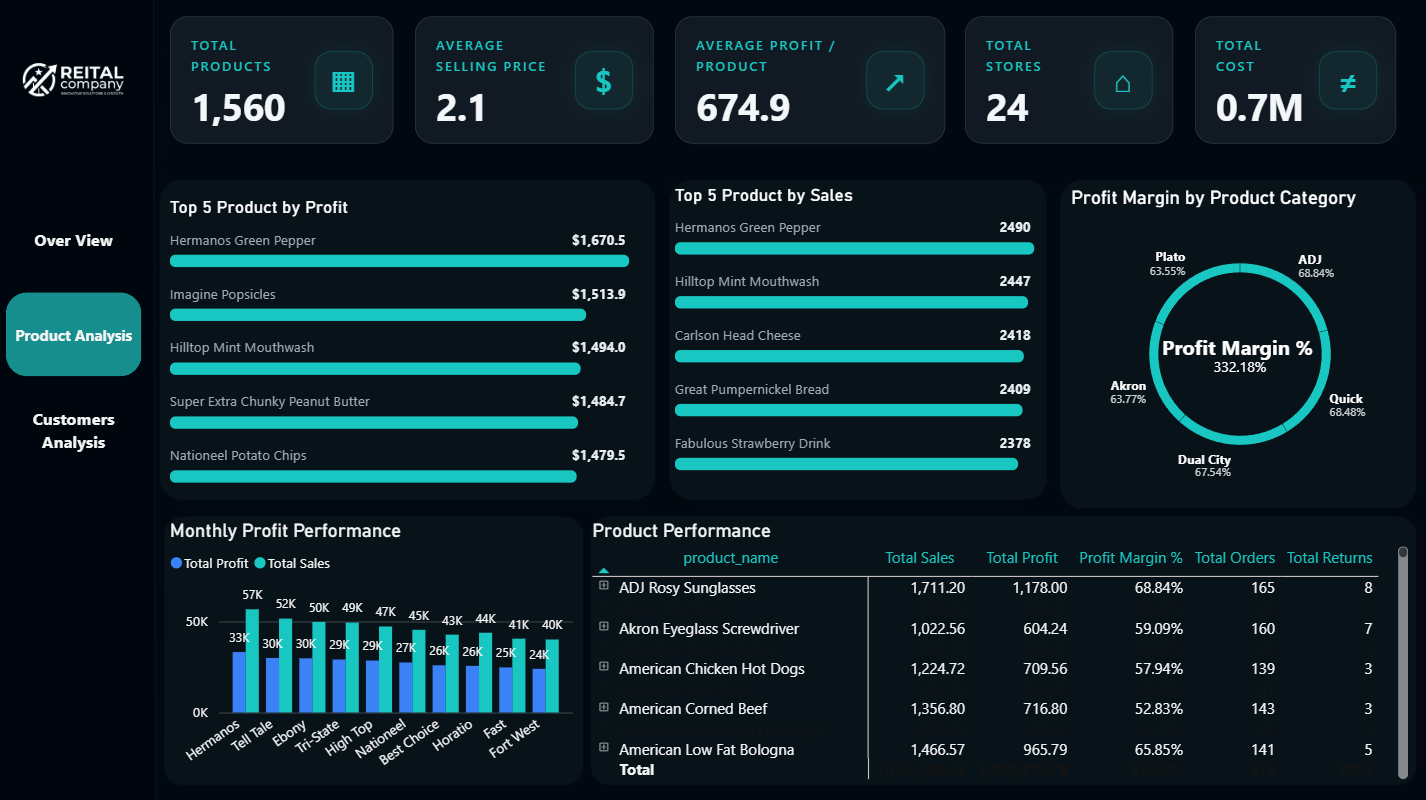

Layout of this report page (visuals, bound fields, positions):
{"tool":"powerbi","page":{"name":"Product Analysis","canvas":[1280,720],"ordinal":1},"visuals":[{"type":"textbox","box":[87.5,8.8,205,50],"z":0},{"type":"image","box":[0,0,100,50],"z":1000},{"type":"actionButton","box":[9.8,62.6,123.9,94.5],"z":2000},{"type":"actionButton","box":[10,170,123.8,93.8],"z":3000},{"type":"actionButton","box":[8.8,292.5,123.8,93.8],"z":4000},{"type":"shape","box":[156.2,52.5,218.8,117.5],"z":5000},{"type":"shape","box":[371.2,51.2,218.8,117.5],"z":6000},{"type":"shape","box":[586.2,51.2,218.8,117.5],"z":7000},{"type":"shape","box":[801.2,50,218.8,117.5],"z":8000},{"type":"shape","box":[1016.2,50,218.8,117.5],"z":9000},{"type":"card","title":"Total Quatity Sold","fields":{"Values":["Dax_Measure.Total Quantity"]},"box":[230,82.5,125,57.5],"z":10000},{"type":"image","box":[156.2,82.5,73.8,53.8],"z":11000},{"type":"card","title":"Total Profit","fields":{"Values":["Dax_Measure.Total Profit"]},"box":[466.2,80,125,57.5],"z":12000},{"type":"image","box":[392.5,82.5,73.8,53.8],"z":13000},{"type":"image","box":[602.5,81.2,73.8,53.8],"z":14000},{"type":"card","title":" Profit Margin","fields":{"Values":["Dax_Measure.Profit Margin %"]},"box":[680,81.2,125,57.5],"z":15000},{"type":"card","title":" Returns Rate","fields":{"Values":["Dax_Measure.Return Rate %"]},"box":[880.8,81.2,125,57.5],"z":16000},{"type":"image","box":[807.5,80,73.8,53.8],"z":17000},{"type":"card","title":"Total Revnue","fields":{"Values":["Dax_Measure.Total Revenue"]},"box":[1100,82.5,125,57.5],"z":18000},{"type":"image","box":[1026.2,82.5,73.8,53.8],"z":19000},{"type":"clusteredColumnChart","title":"Top 5 category by profit","fields":{"Y":["Dax_Measure.Total Profit"],"Category":["Products.product_brand"]},"box":[163.5,445.1,497.3,254.1],"z":20000},{"type":"clusteredBarChart","title":"Top 5 Returned Products","fields":{"Category":["Products.product_name"],"Y":["Dax_Measure.Total Returns"]},"box":[170.3,169,490.4,245.9],"z":21000},{"type":"clusteredBarChart","title":"Top 10 product by profit","fields":{"Category":["Products.product_name"],"Y":["Dax_Measure.Total Profit"]},"box":[695.1,169,530.2,245.9],"z":22000},{"type":"columnChart","title":"Lowest Ordered Products","fields":{"Category":["Products.product_name"],"Y":["Dax_Measure.Total Orders","Dax_Measure.Total Profit"]},"box":[695.1,427.2,539.9,272],"z":23000},{"type":"slicer","fields":{"Values":["Dim_Date.Year"]},"box":[949.7,0,282.2,77.3],"z":24000}]}

Visuals, with their boxes in screenshot pixels (x1, y1, x2, y2), scaled from the page's 1280x720 canvas onto the 1426x800 screenshot:
textbox: [left=97, top=10, right=326, bottom=65]
image: [left=0, top=0, right=111, bottom=56]
actionButton: [left=11, top=70, right=149, bottom=175]
actionButton: [left=11, top=189, right=149, bottom=293]
actionButton: [left=10, top=325, right=148, bottom=429]
shape: [left=174, top=58, right=418, bottom=189]
shape: [left=414, top=57, right=657, bottom=187]
shape: [left=653, top=57, right=897, bottom=187]
shape: [left=893, top=56, right=1136, bottom=186]
shape: [left=1132, top=56, right=1376, bottom=186]
"Total Quatity Sold" card: [left=256, top=92, right=395, bottom=156]
image: [left=174, top=92, right=256, bottom=151]
"Total Profit" card: [left=519, top=89, right=659, bottom=153]
image: [left=437, top=92, right=519, bottom=151]
image: [left=671, top=90, right=753, bottom=150]
" Profit Margin" card: [left=758, top=90, right=897, bottom=154]
" Returns Rate" card: [left=981, top=90, right=1121, bottom=154]
image: [left=900, top=89, right=982, bottom=149]
"Total Revnue" card: [left=1225, top=92, right=1365, bottom=156]
image: [left=1143, top=92, right=1225, bottom=151]
"Top 5 category by profit" clusteredColumnChart: [left=182, top=495, right=736, bottom=777]
"Top 5 Returned Products" clusteredBarChart: [left=190, top=188, right=736, bottom=461]
"Top 10 product by profit" clusteredBarChart: [left=774, top=188, right=1365, bottom=461]
"Lowest Ordered Products" columnChart: [left=774, top=475, right=1376, bottom=777]
slicer - Dim_Date.Year: [left=1058, top=0, right=1372, bottom=86]
